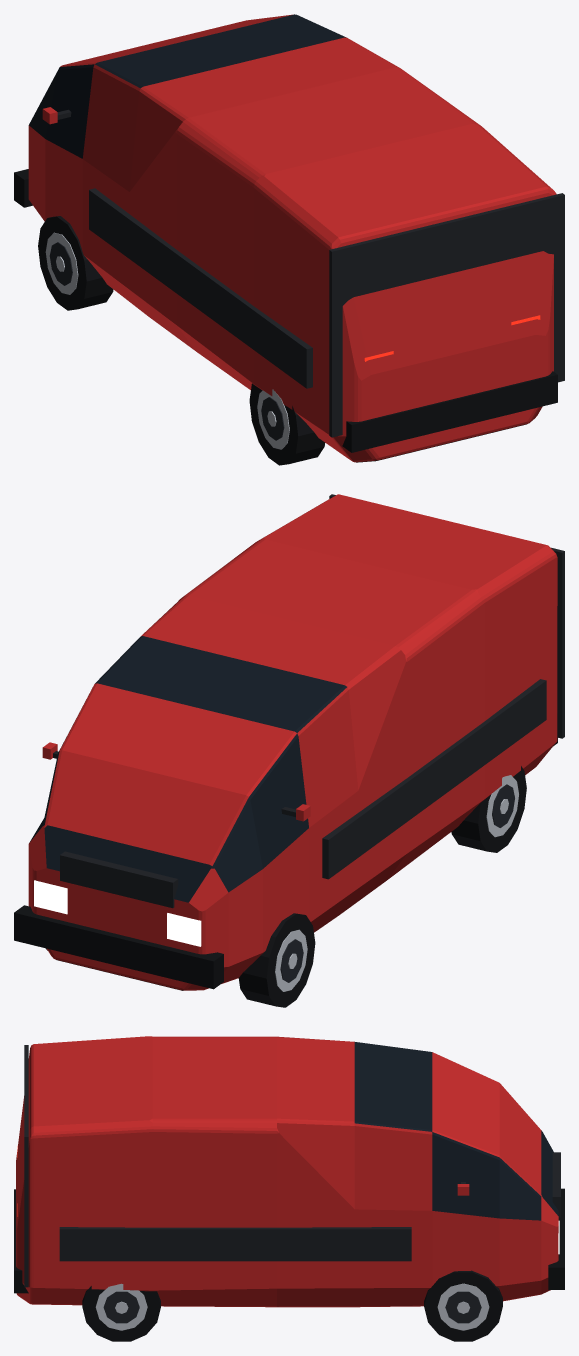
The model's file is car_van.glb.
3 views of the same model, one above another, from view 1: azimuth 30°, elevation 25°; view 2: azimuth 150°, elevation 25°; view 3: azimuth 270°, elevation 25° (orthographic). The views are drawn at different scales.
Visible parts, largest first — view 1: Body, Wheel_FL, Wheel_RL; view 2: Body, Wheel_FL, Wheel_RL; view 3: Body, Wheel_FR, Wheel_RR.
Part boxes in pixels (x1,y1,x2,y2): Body: [14, 14, 564, 462]; Wheel_FL: [38, 216, 113, 310]; Wheel_RL: [249, 383, 324, 465]; Body: [14, 494, 564, 990]; Wheel_FL: [238, 913, 315, 1007]; Wheel_RL: [451, 766, 526, 852]; Body: [14, 1036, 564, 1307]; Wheel_FR: [424, 1270, 502, 1341]; Wheel_RR: [82, 1283, 160, 1341].
Bounding box in the file's own units: 2.35 × 2.33 × 5.32.
